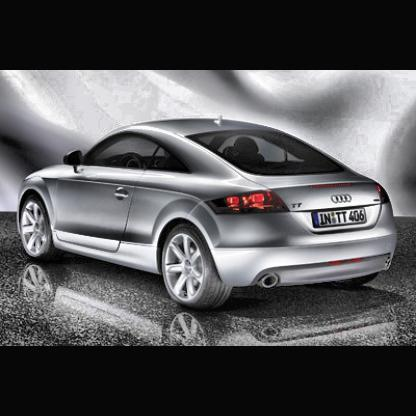Audi TT Hatchback 2011: (19, 118, 399, 309)
